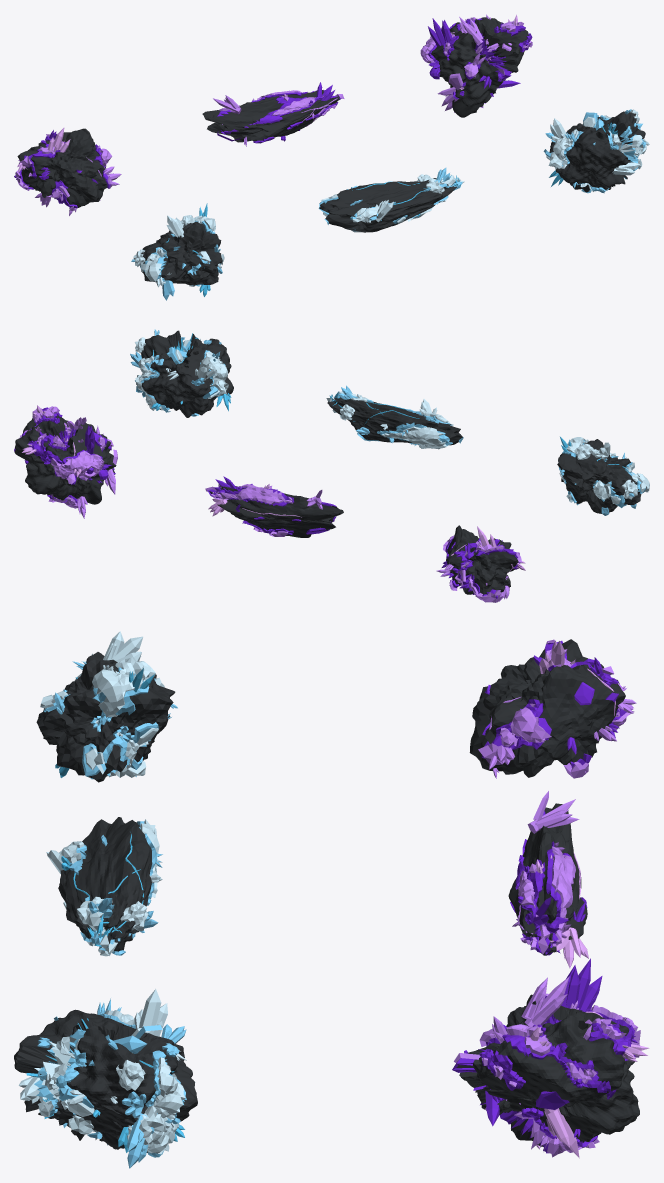
The model's file is ore_asteroids_phase_03_silicon_ice.glb.
The picture shows the model from 3 angles, top to bottom: view 1: azimuth 30°, elevation 25°; view 2: azimuth 150°, elevation 25°; view 3: azimuth 270°, elevation 25°; orthographic projection. The views are drawn at different scales.
Visible parts, largest first — view 1: SILICON_C_ROCK_BODY, SILICON_A_ROCK_BODY, ICE_B_ROCK_BODY, ICE_C_ROCK_BODY, SILICON_B_ROCK_BODY, ICE_A_ROCK_BODY, SILICON_B_CRUST_DEEPPURPLE_LAYER, SILICON_C_CRUST_DEEPPURPLE_LAYER, ICE_C_CRUST_FROZEN_CRUST, SILICON_A_CRUST_DEEPPURPLE_LAYER, SILICON_C_CRUST_VIOLET_CRUST, ICE_C_CRUST_LAYERED_ICE (+5 smaller); view 2: ICE_C_ROCK_BODY, SILICON_C_ROCK_BODY, ICE_A_ROCK_BODY, SILICON_B_ROCK_BODY, ICE_B_ROCK_BODY, SILICON_A_ROCK_BODY, SILICON_C_CRUST_VIOLET_CRUST, SILICON_C_CRUST_DEEPPURPLE_LAYER, ICE_B_CRUST_FROZEN_CRUST, SILICON_B_CRUST_VIOLET_CRUST, ICE_C_CRUST_FROZEN_CRUST, SILICON_A_CRUST_DEEPPURPLE_LAYER (+6 smaller); view 3: SILICON_C_ROCK_BODY, SILICON_A_ROCK_BODY, ICE_C_ROCK_BODY, ICE_A_ROCK_BODY, ICE_B_ROCK_BODY, SILICON_C_CRUST_DEEPPURPLE_LAYER, SILICON_B_ROCK_BODY, ICE_C_CRUST_FROZEN_CRUST, SILICON_C_CRUST_VIOLET_CRUST, ICE_A_CRUST_FROZEN_CRUST, ICE_C_CRUST_LAYERED_ICE, SILICON_B_CRUST_VIOLET_CRUST (+12 smaller).
Boxes of the visible parts, x1,y1,x2,y2 form: SILICON_C_ROCK_BODY: [431, 17, 528, 117]; SILICON_A_ROCK_BODY: [17, 128, 108, 207]; ICE_B_ROCK_BODY: [319, 178, 456, 232]; ICE_C_ROCK_BODY: [549, 111, 645, 192]; SILICON_B_ROCK_BODY: [202, 90, 339, 142]; ICE_A_ROCK_BODY: [141, 221, 222, 285]; SILICON_B_CRUST_DEEPPURPLE_LAYER: [217, 90, 341, 143]; SILICON_C_CRUST_DEEPPURPLE_LAYER: [428, 18, 532, 103]; ICE_C_CRUST_FROZEN_CRUST: [549, 115, 646, 191]; SILICON_A_CRUST_DEEPPURPLE_LAYER: [18, 133, 110, 208]; SILICON_C_CRUST_VIOLET_CRUST: [420, 17, 532, 107]; ICE_C_CRUST_LAYERED_ICE: [550, 115, 644, 193]; ICE_C_ROCK_BODY: [141, 330, 233, 417]; SILICON_C_ROCK_BODY: [14, 415, 116, 504]; ICE_A_ROCK_BODY: [557, 439, 641, 513]; SILICON_B_ROCK_BODY: [209, 484, 343, 537]; ICE_B_ROCK_BODY: [327, 397, 462, 445]; SILICON_A_ROCK_BODY: [446, 525, 518, 594]; SILICON_C_CRUST_VIOLET_CRUST: [19, 406, 113, 508]; SILICON_C_CRUST_DEEPPURPLE_LAYER: [14, 407, 115, 504]; ICE_B_CRUST_FROZEN_CRUST: [326, 391, 453, 449]; SILICON_B_CRUST_VIOLET_CRUST: [205, 484, 288, 536]; ICE_C_CRUST_FROZEN_CRUST: [137, 339, 227, 410]; SILICON_A_CRUST_DEEPPURPLE_LAYER: [445, 538, 519, 596]; SILICON_C_ROCK_BODY: [456, 994, 639, 1146]; SILICON_A_ROCK_BODY: [469, 639, 625, 777]; ICE_C_ROCK_BODY: [14, 1009, 197, 1152]; ICE_A_ROCK_BODY: [36, 652, 175, 782]; ICE_B_ROCK_BODY: [58, 817, 152, 951]; SILICON_C_CRUST_DEEPPURPLE_LAYER: [452, 996, 635, 1153]; SILICON_B_ROCK_BODY: [508, 803, 587, 955]; ICE_C_CRUST_FROZEN_CRUST: [34, 1010, 185, 1154]; SILICON_C_CRUST_VIOLET_CRUST: [454, 993, 640, 1157]; ICE_A_CRUST_FROZEN_CRUST: [40, 653, 164, 777]; ICE_C_CRUST_LAYERED_ICE: [34, 1013, 186, 1157]; SILICON_B_CRUST_VIOLET_CRUST: [518, 846, 575, 954].
Bounding box in the file's own units: 14.76 × 2.62 × 8.63.
